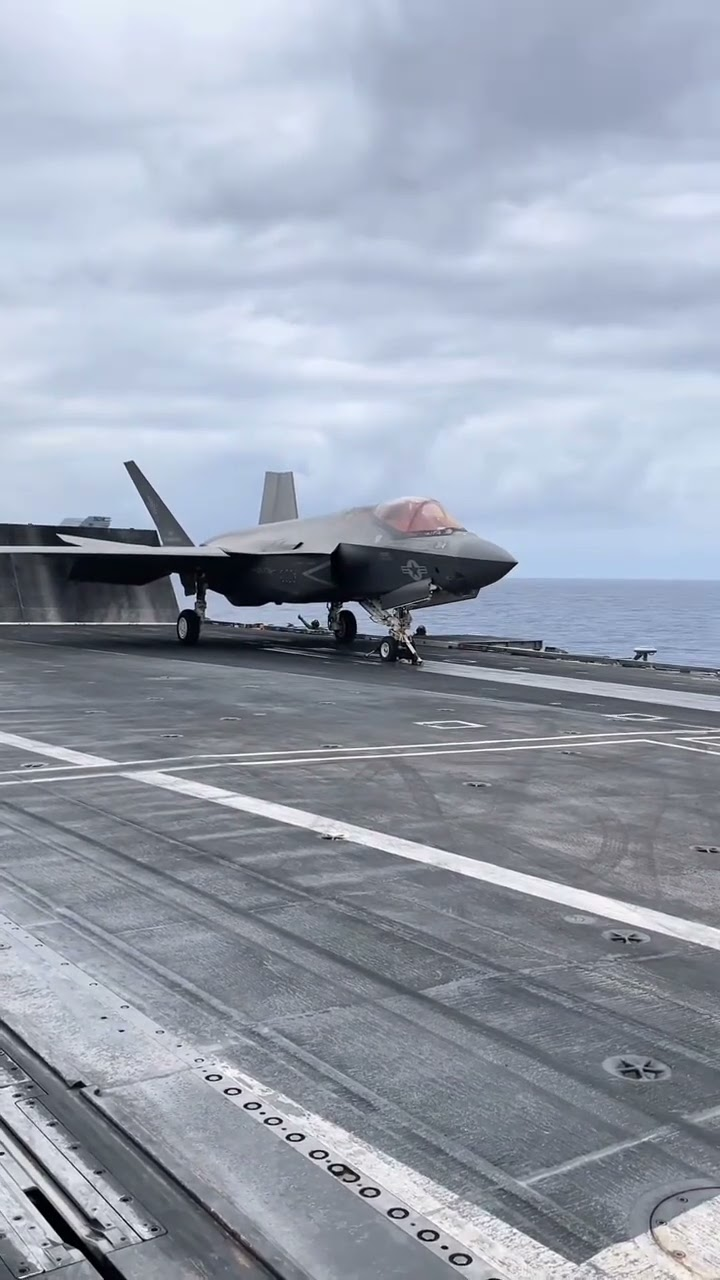F35: (0, 457, 522, 665)
